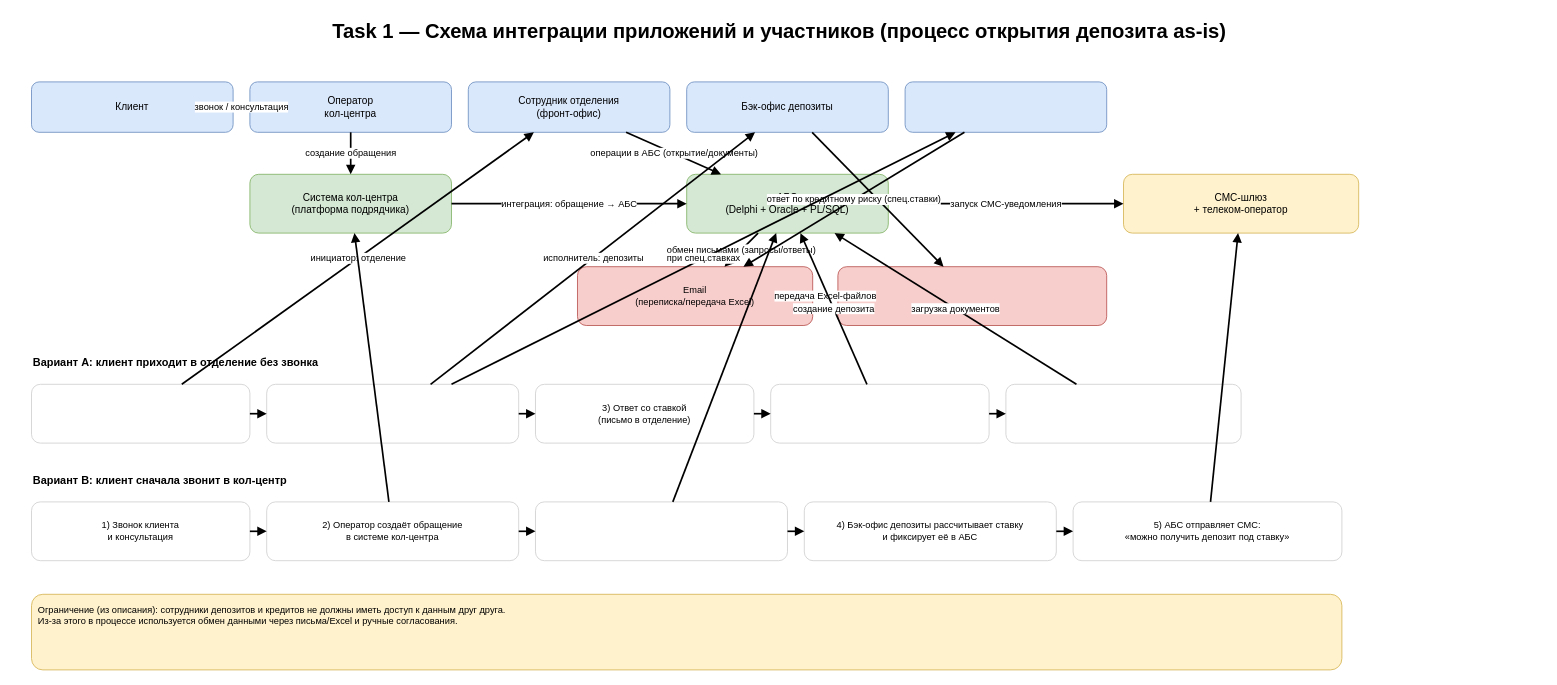
The diagram is 1557 pixels wide and 685 high, and some of its shapes have lost their labels. The shapes that lost their labels are listed below. From the top down, each one's box as (x1, y1, x2, y2) in pixels, then its label:
(904, 81, 1107, 132): Бэк-офис кредиты
(837, 266, 1107, 326): Excel-файлы (расчёт ставок / ежедневные показатели)
(31, 383, 250, 443): 1) Запрос ставки (письмо в бэк-офис депозиты)
(266, 383, 519, 443): 2) Расчёт ставки (при необходимости — запрос в кредиты)
(770, 383, 989, 443): 4) Открытие депозита в АБС и выдача документов
(1005, 383, 1241, 443): 5) Подписание и загрузка документов в АБС
(535, 501, 788, 561): 3) Обращение передаётся в АБС для предварительного расчёта ставки
